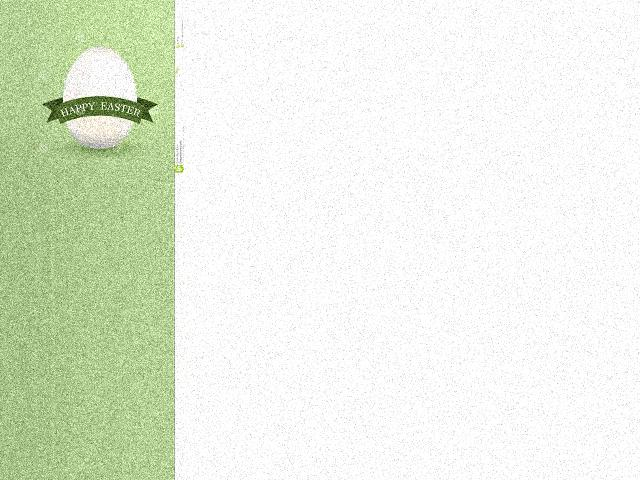egg: (64, 46, 137, 148)
